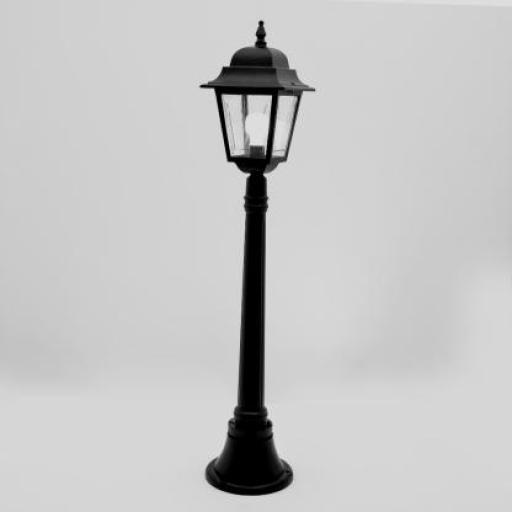street light: (198, 20, 316, 496)
